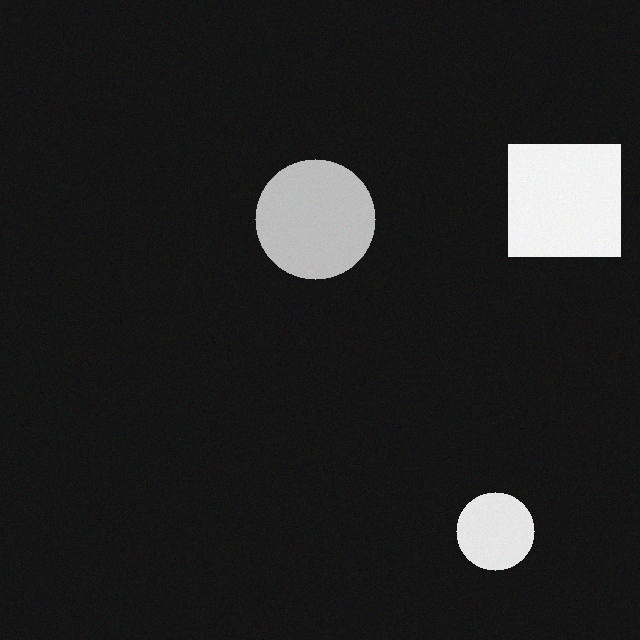circle: (258, 157, 378, 277), (459, 490, 537, 568)
square: (511, 142, 623, 254)
